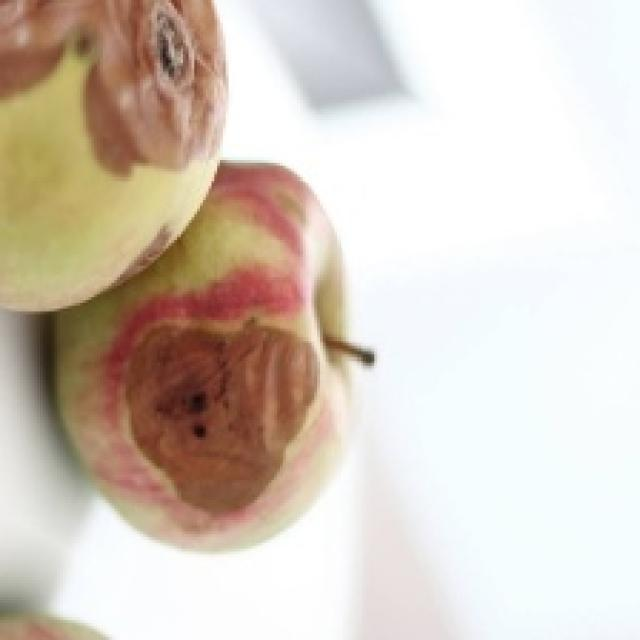rotten_apple: (119, 171, 350, 554), (0, 0, 226, 307)
